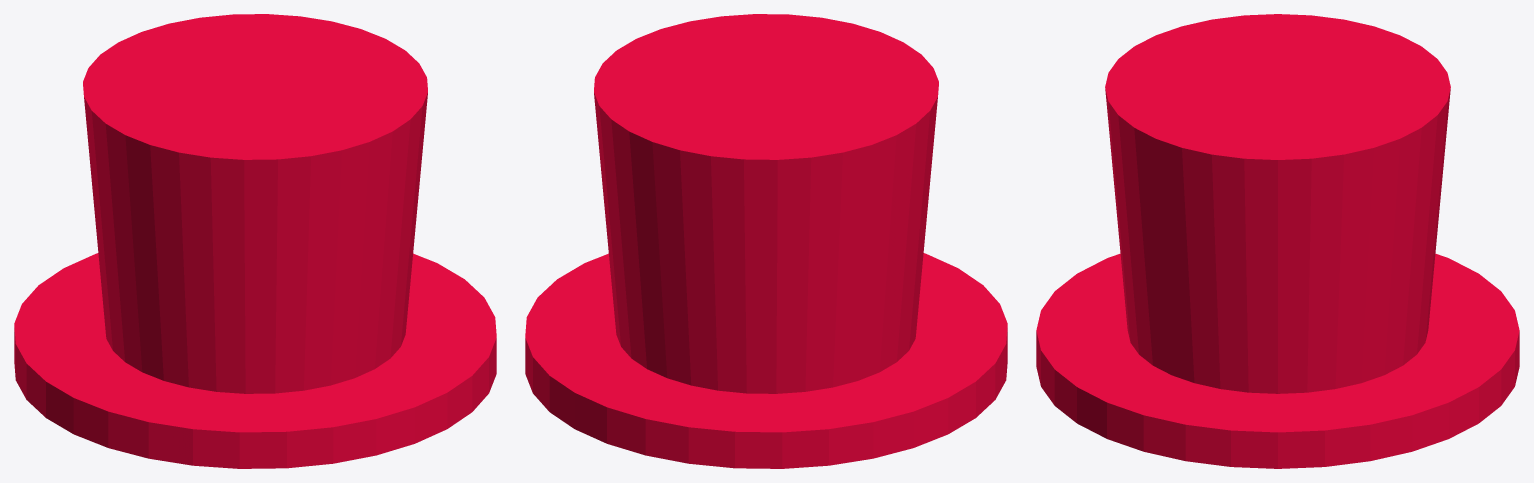
Rendered from sombrero.glb.
3 views of the same model, side by side, from view 1: azimuth 30°, elevation 25°; view 2: azimuth 150°, elevation 25°; view 3: azimuth 270°, elevation 25° (orthographic).
Visible parts, largest first — view 1: TopHat_Mesh; view 2: TopHat_Mesh; view 3: TopHat_Mesh.
Boxes of the visible parts, x1,y1,x2,y2 form: TopHat_Mesh: [14, 14, 496, 468]; TopHat_Mesh: [525, 14, 1007, 468]; TopHat_Mesh: [1036, 14, 1519, 468].
Bounding box in the file's own units: 0.18 × 0.115 × 0.18.
